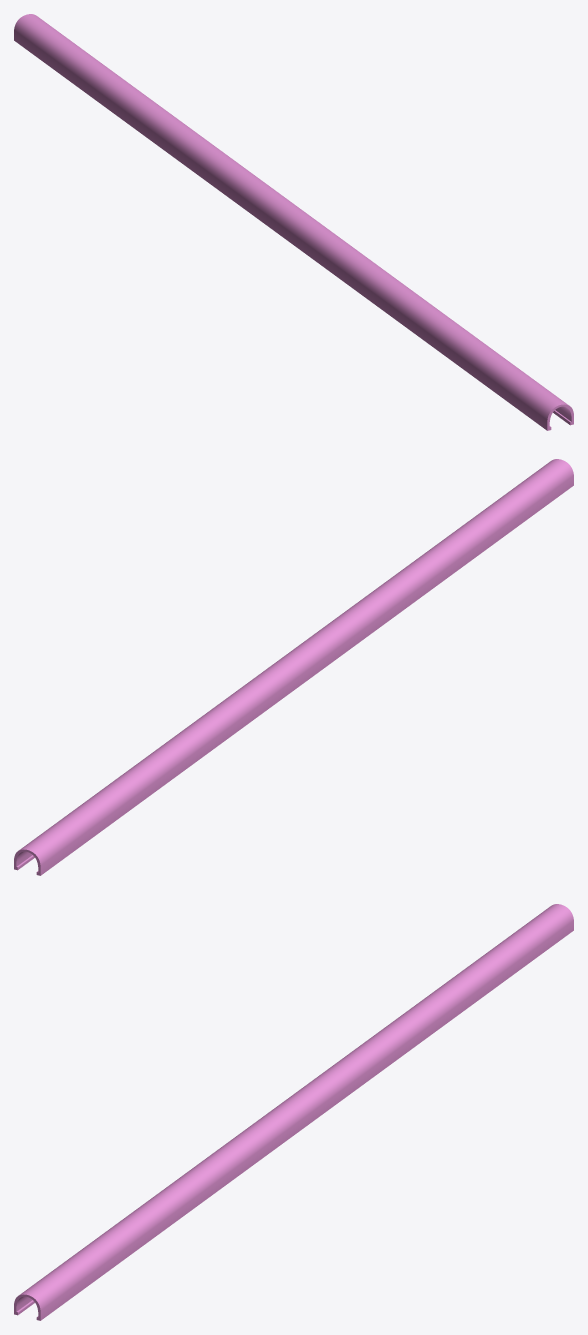
The model's file is tunel corección.fbx.
3 renders of one model, top to bottom at view 1: azimuth 30°, elevation 25°; view 2: azimuth 150°, elevation 25°; view 3: azimuth 330°, elevation 25°, orthographic.
Parts seen in each view (by area): view 1: Box014; view 2: Box014; view 3: Box014.
Boxes of the visible parts, x1,y1,x2,y2 form: Box014: (14,14,573,430); Box014: (14,459,573,875); Box014: (14,904,573,1320).
Size of the model in its own units: 133 by 109 by 4627.
